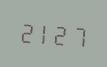one: (35, 18, 51, 46)
seven: (69, 21, 85, 49)
two: (52, 19, 68, 48), (18, 17, 34, 45)
